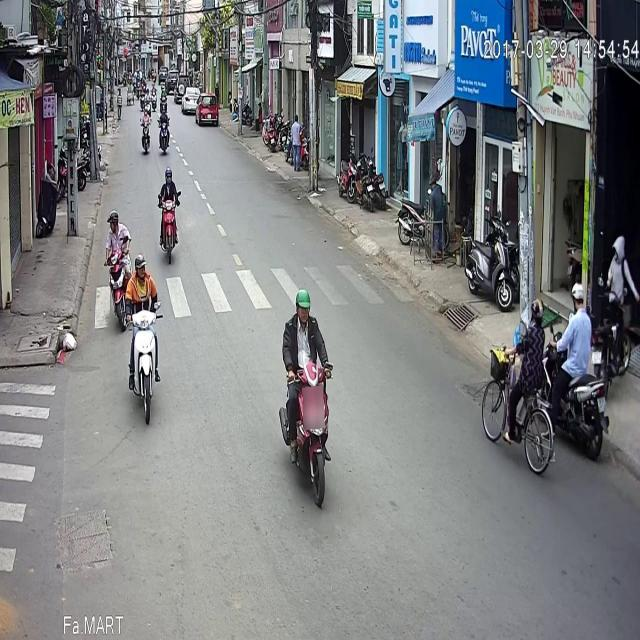bicycle: (480, 242, 557, 418)
car: (196, 34, 218, 66)
motorcycle: (276, 231, 334, 451), (544, 222, 607, 406), (129, 199, 161, 365), (104, 154, 133, 269), (157, 109, 180, 208), (157, 48, 169, 94), (140, 50, 151, 94)
